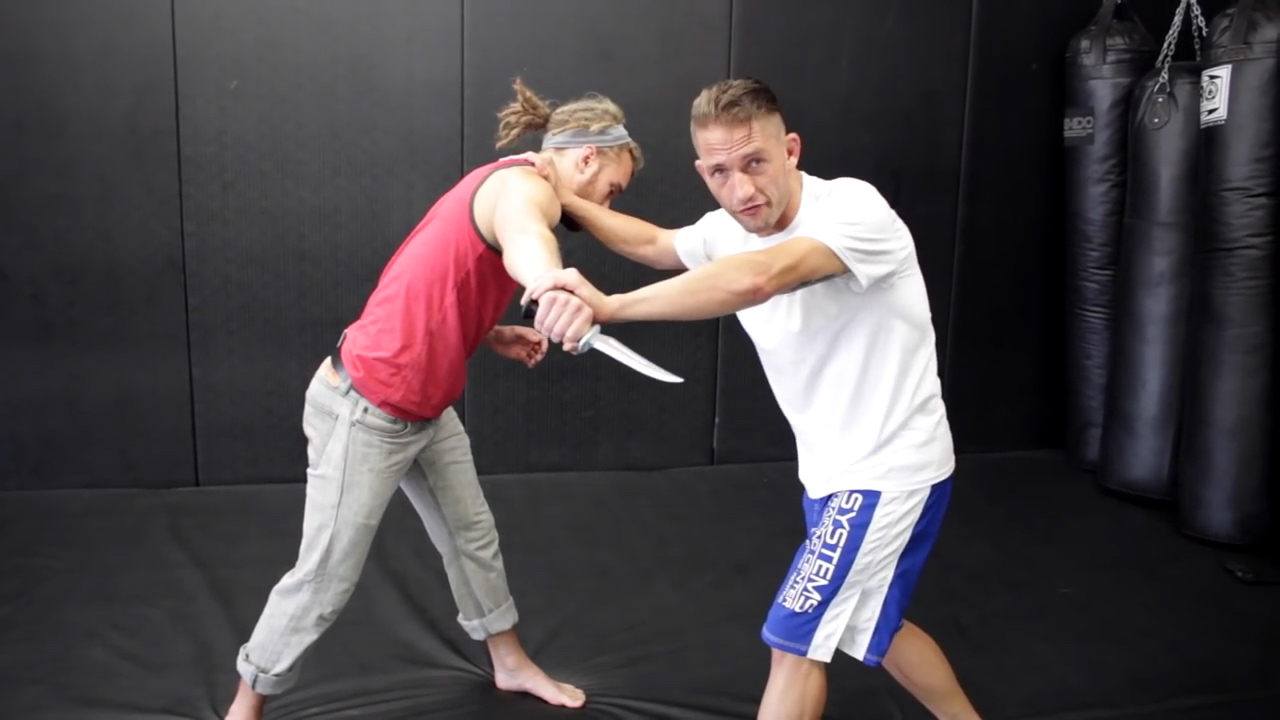knife: (511, 285, 695, 395)
